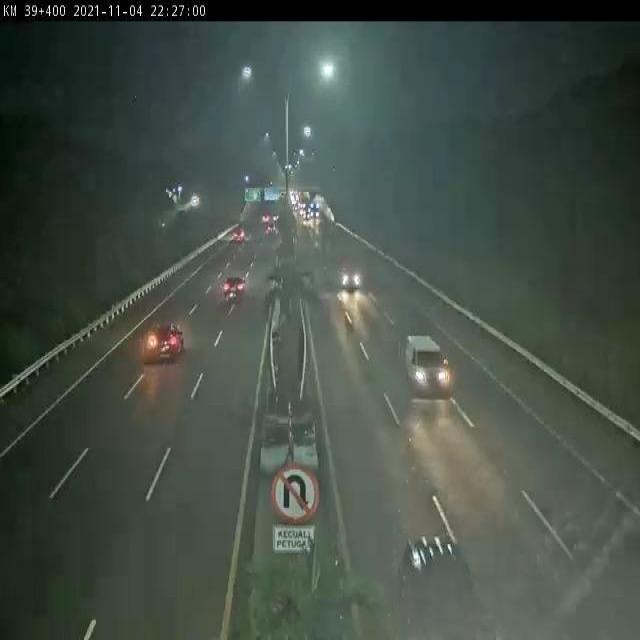car: (402, 333, 452, 395), (146, 324, 187, 361), (337, 255, 363, 289), (222, 274, 246, 302)
